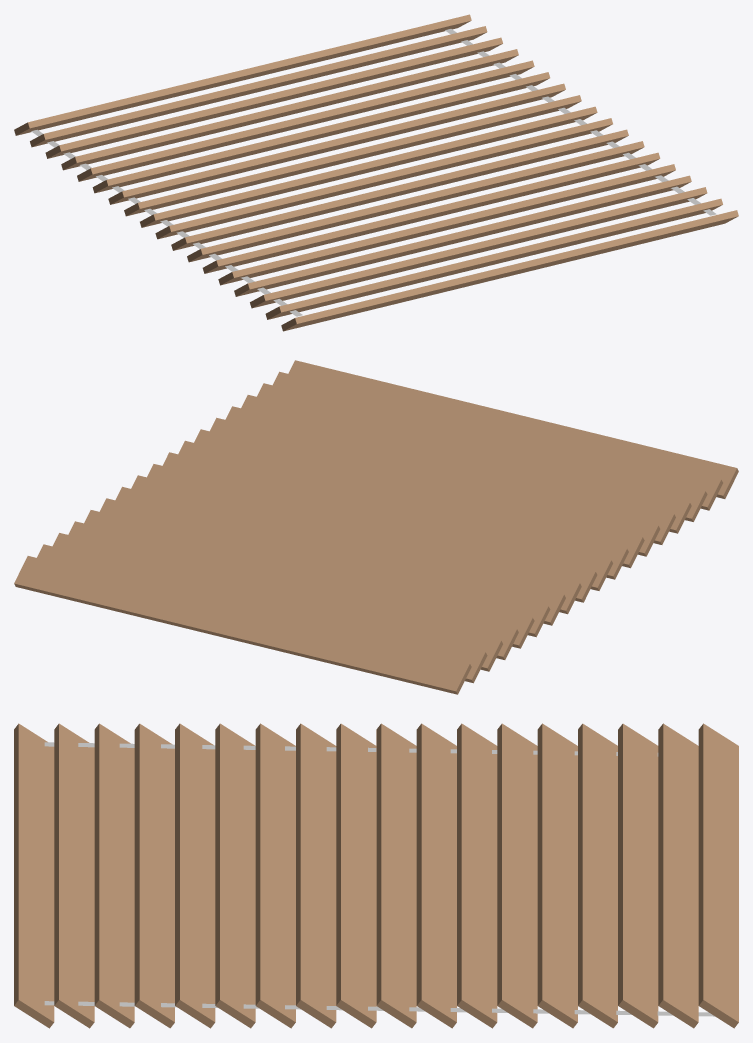
File: Door_Ac_A.obj
3 renders of one model, top to bottom at view 1: azimuth 30°, elevation 25°; view 2: azimuth 150°, elevation 25°; view 3: azimuth 270°, elevation 25°, orthographic. The views are drawn at different scales.
Parts seen in each view (by area): view 1: Door_Ac_A; view 2: Door_Ac_A; view 3: Door_Ac_A.
Boxes of the visible parts, <box> form: Door_Ac_A: <box>14,14,738,331</box>; Door_Ac_A: <box>14,360,738,694</box>; Door_Ac_A: <box>14,723,738,1028</box>.
Size of the model in its own units: 0.6773 by 0.0328 by 0.7506.
